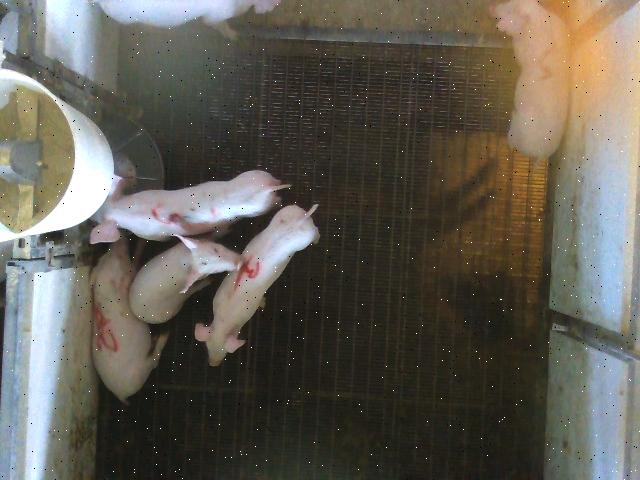pig-2: (494, 2, 569, 160)
pig-3: (90, 171, 290, 242)
pig-4: (196, 205, 319, 365)
pig-5: (90, 238, 169, 402)
